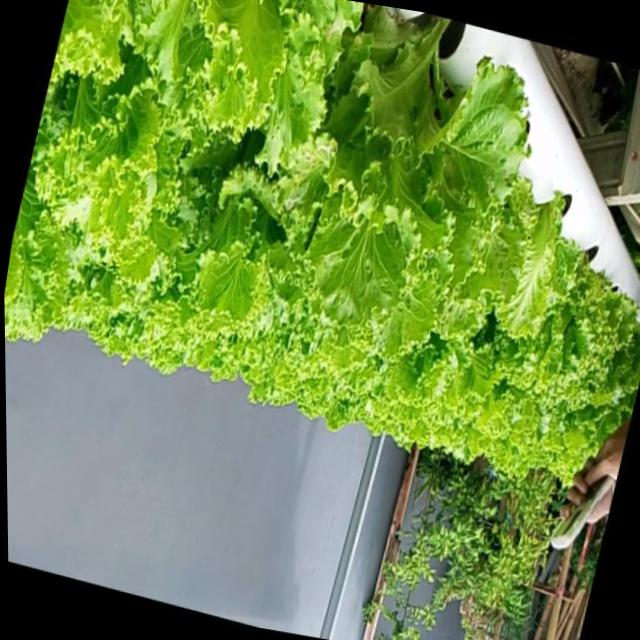Mature: (4, 0, 640, 476), (300, 8, 521, 321), (489, 203, 640, 432)
